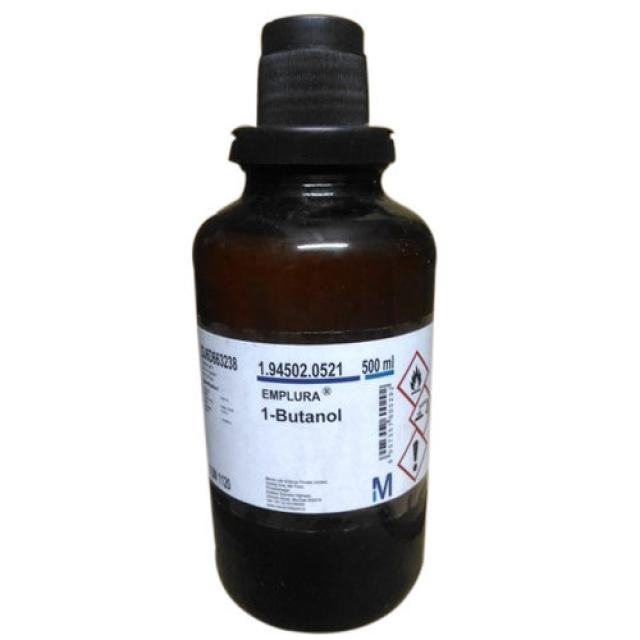chemical name: (260, 404, 346, 431)
flammable: (403, 361, 427, 400)
toxic: (402, 436, 424, 477)
